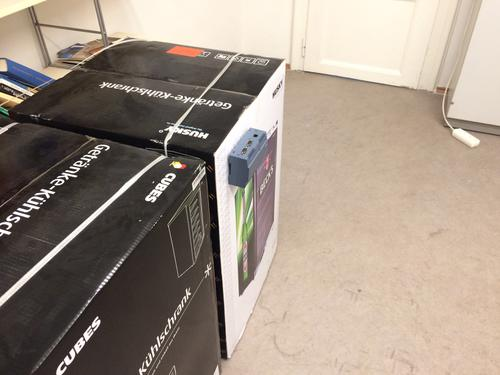iot2000: (228, 128, 270, 190)
